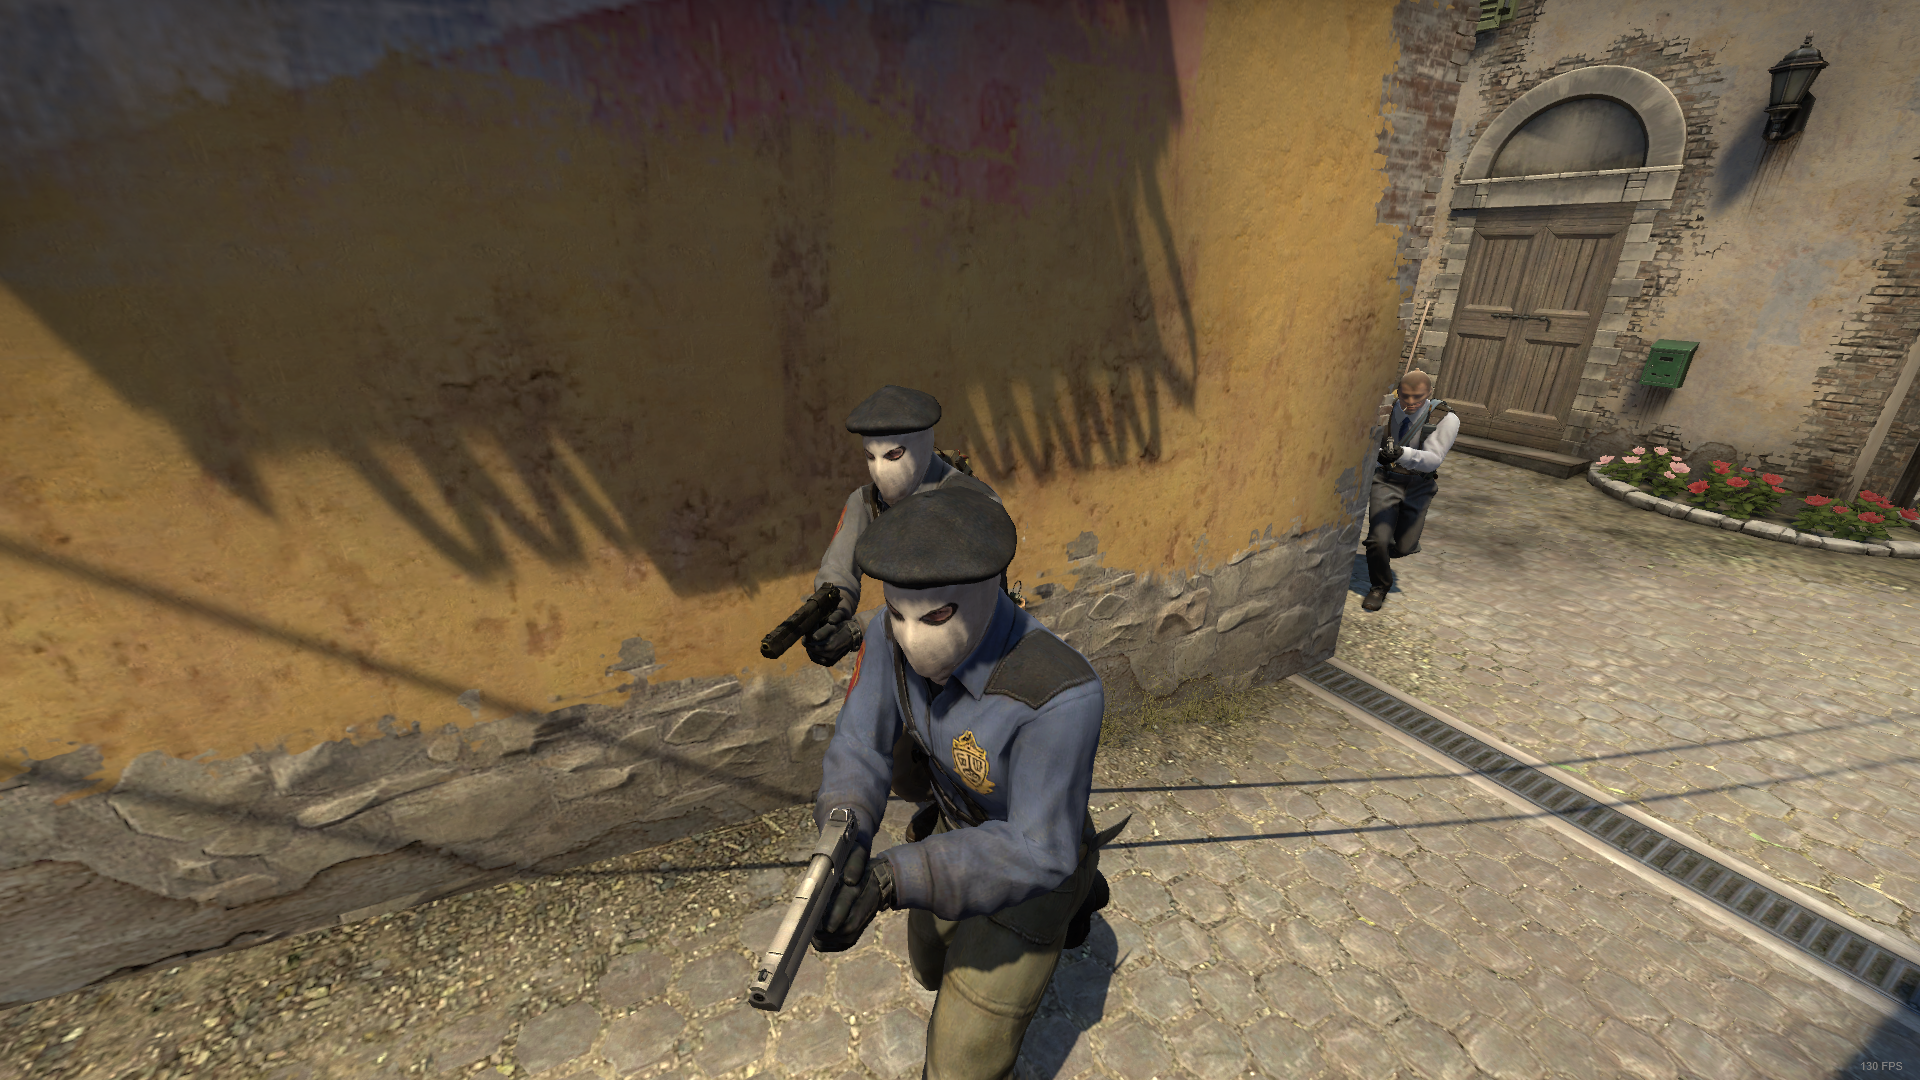t: (796, 489, 1127, 1080), (806, 378, 1005, 500)
